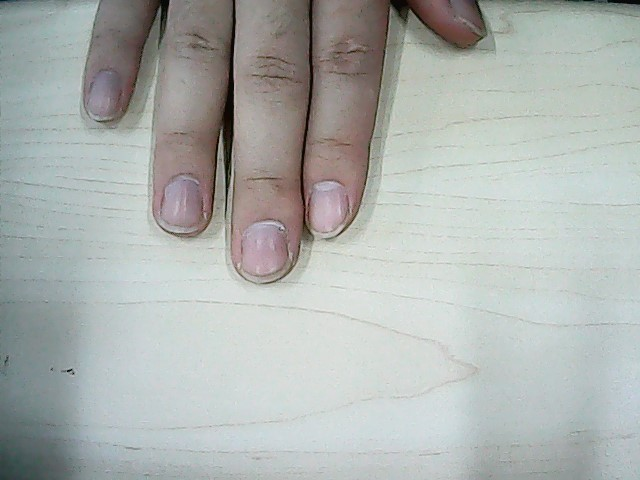nail: (240, 219, 291, 286), (160, 172, 205, 232), (307, 180, 352, 239), (84, 68, 119, 121), (450, 1, 489, 37)
